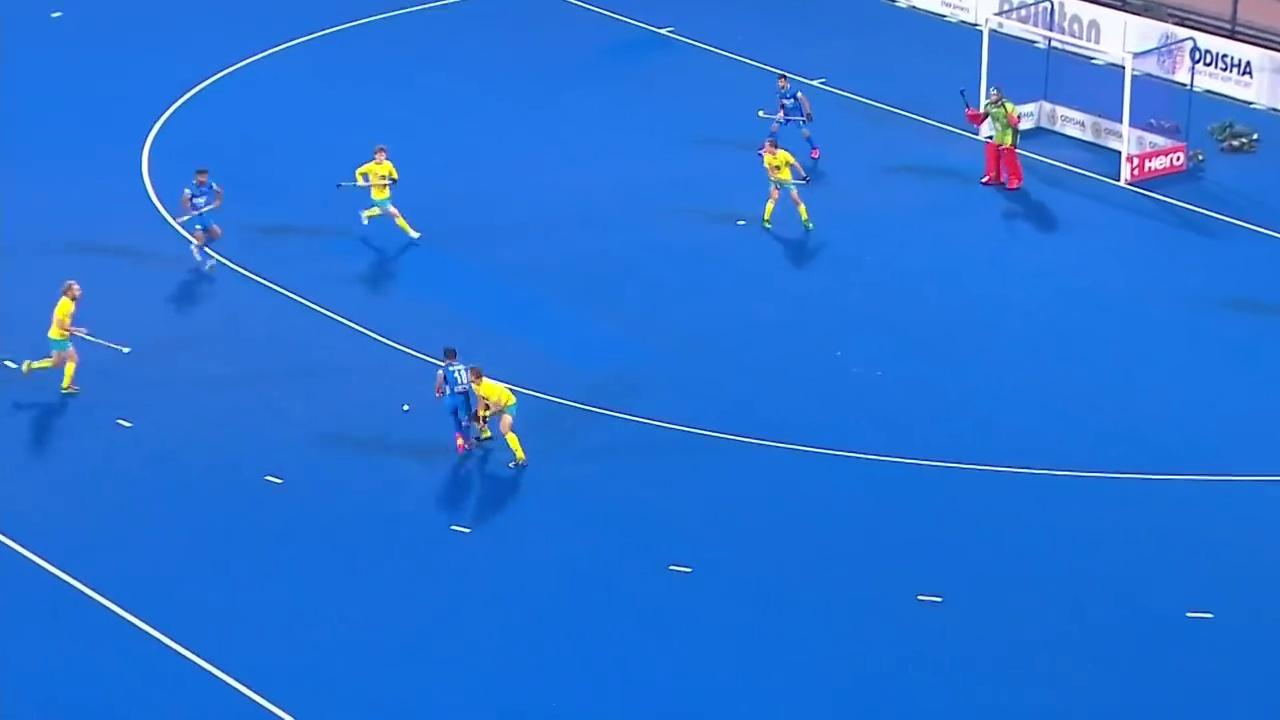ball: (396, 401, 413, 415)
